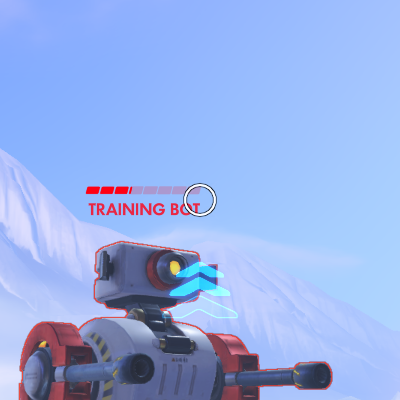hpbar: (85, 186, 201, 195)
